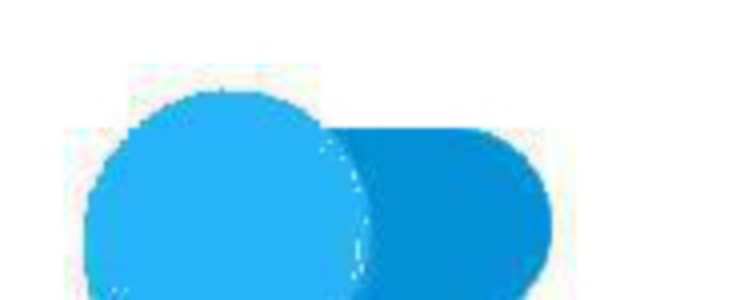Switch: (1, 1, 743, 299)
